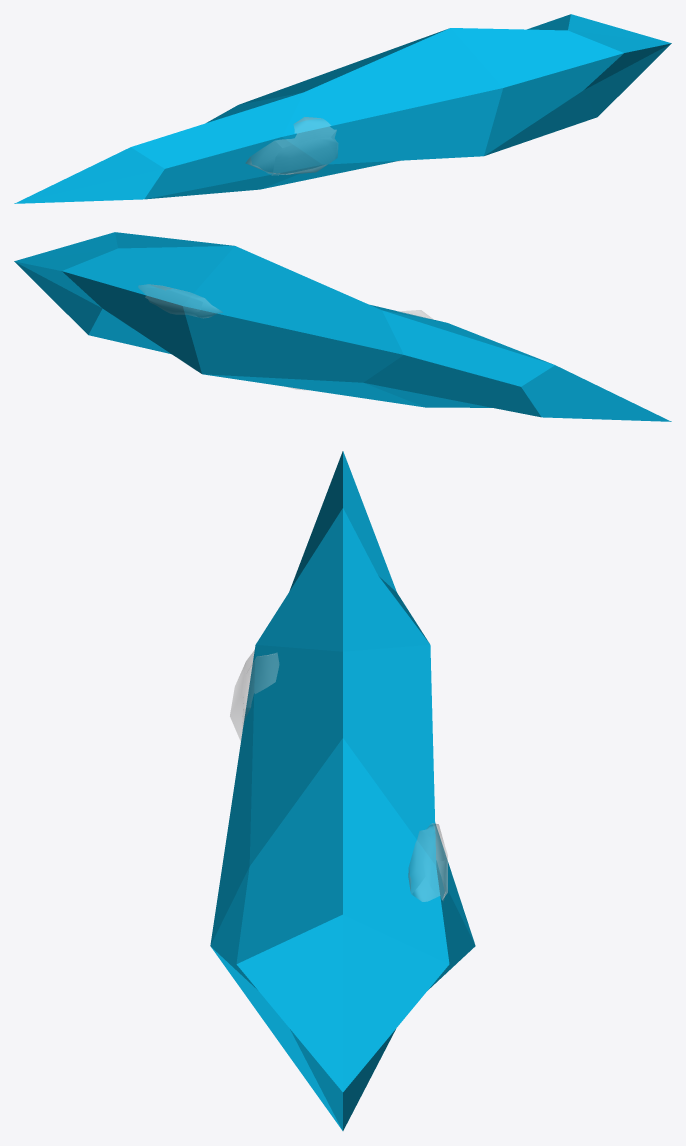
The model's file is iceSpike.fbx.
3 renders of one model, top to bottom at view 1: azimuth 30°, elevation 25°; view 2: azimuth 150°, elevation 25°; view 3: azimuth 270°, elevation 25°, orthographic. The views are drawn at different scales.
Visible parts, largest first — view 1: polySurface6; view 2: polySurface6; view 3: polySurface6.
Boxes of the visible parts, box(x1,y1,x2,y2) form: polySurface6: box(14, 14, 671, 203); polySurface6: box(14, 232, 671, 421); polySurface6: box(210, 451, 475, 1130).
Size of the model in its own units: 519 by 94.34 by 90.63.
